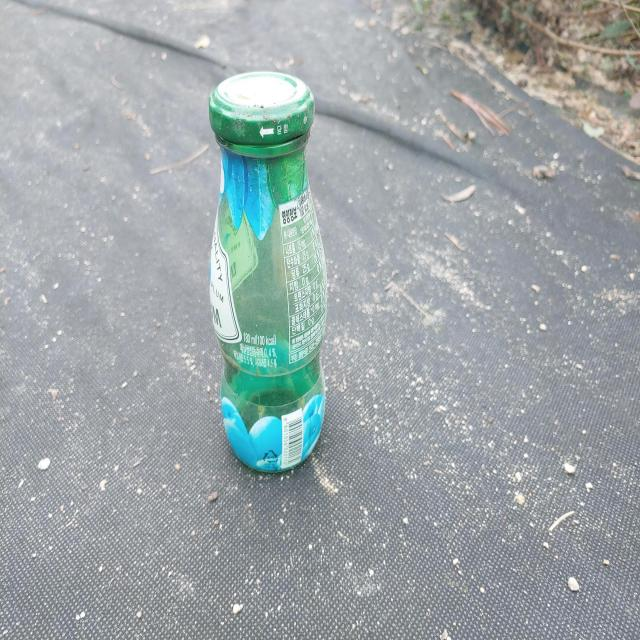glass: (209, 72, 327, 472)
